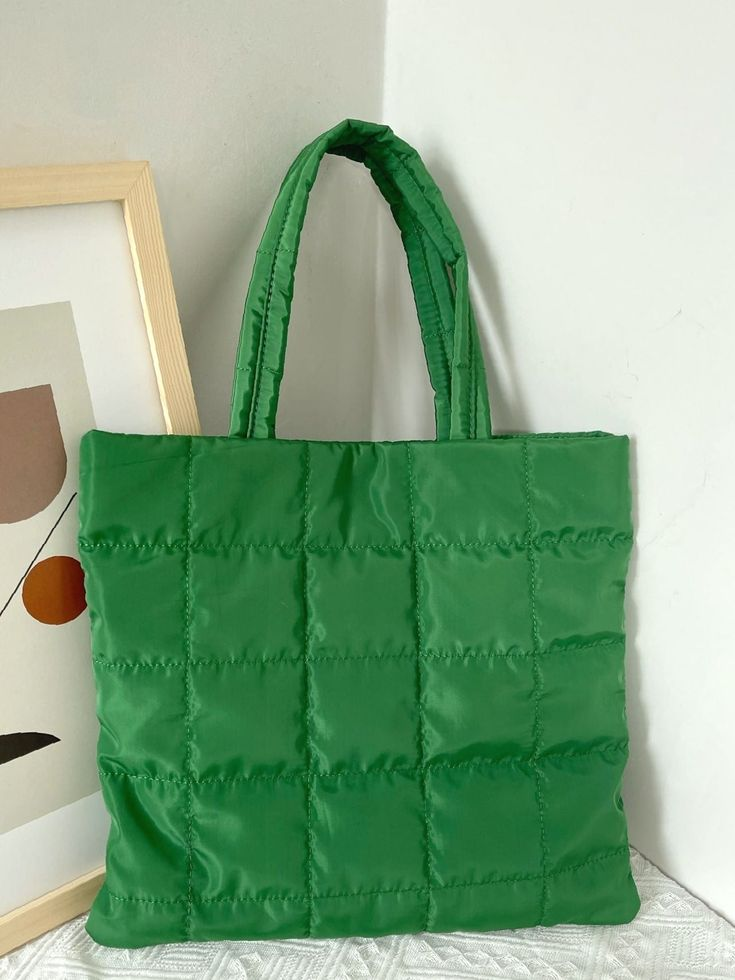nylon: (79, 118, 642, 949)
